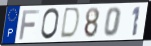0: (103, 6, 122, 38)
1: (131, 6, 141, 38)
8: (83, 7, 101, 39)
D: (58, 6, 81, 40)
F: (18, 9, 41, 41)
O: (39, 7, 60, 42)
